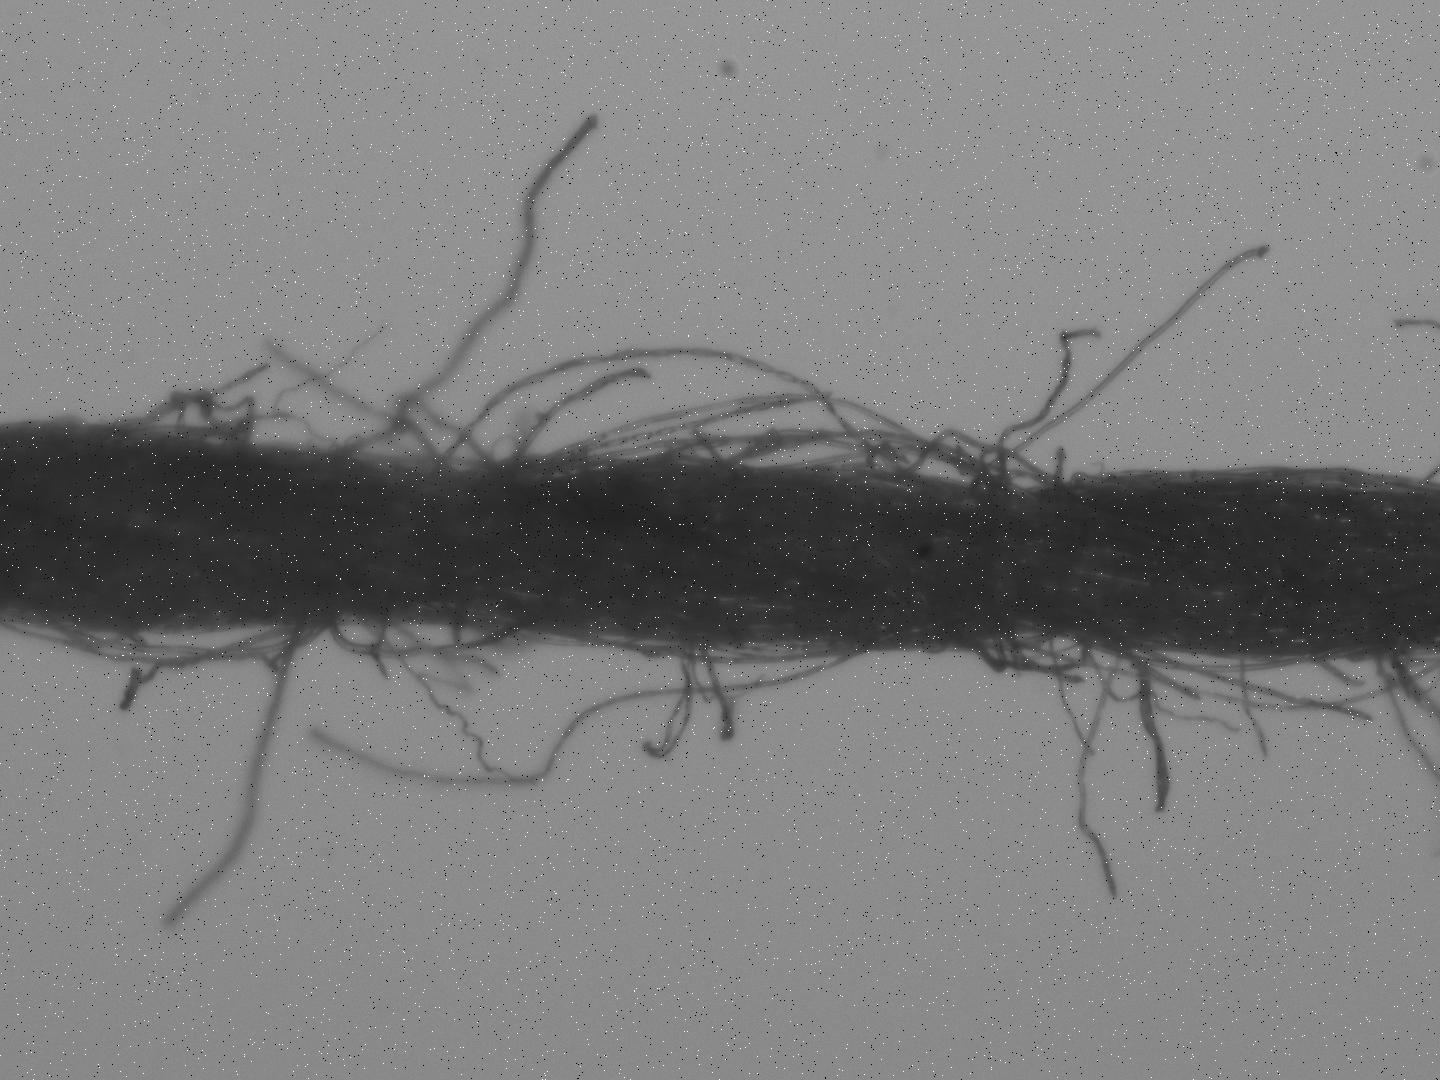loop_fiber: (729, 431, 1009, 497), (68, 626, 294, 669), (319, 619, 506, 659), (545, 433, 706, 475), (608, 642, 840, 667), (328, 429, 450, 473), (170, 393, 254, 453), (1000, 622, 1087, 676), (1124, 648, 1272, 673), (972, 636, 1007, 678)
protruding_fiber: (341, 118, 600, 459), (166, 621, 299, 930), (999, 324, 1102, 490), (506, 365, 647, 464), (1076, 659, 1123, 901), (1144, 659, 1167, 811)
